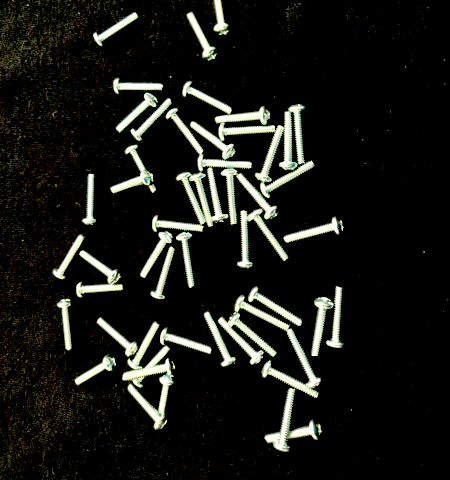longscrew: (287, 328, 328, 390), (248, 285, 305, 328), (218, 316, 266, 367), (227, 312, 279, 359), (261, 360, 321, 400), (247, 208, 291, 262), (260, 160, 317, 200), (234, 294, 292, 333), (236, 172, 281, 221), (130, 98, 174, 143), (128, 384, 170, 431), (165, 108, 206, 155), (204, 312, 239, 367), (189, 121, 238, 160), (132, 343, 174, 388), (182, 80, 234, 115), (116, 93, 160, 134), (185, 12, 220, 63), (93, 11, 141, 48), (255, 124, 285, 183), (125, 144, 159, 196), (97, 317, 140, 358), (175, 171, 207, 226), (273, 388, 299, 455), (140, 231, 176, 279), (284, 217, 345, 245), (128, 321, 161, 370), (310, 297, 336, 358), (53, 234, 87, 280), (264, 419, 324, 445), (79, 250, 122, 285), (326, 285, 349, 350), (159, 328, 214, 355), (150, 246, 177, 300), (189, 172, 215, 228), (74, 354, 117, 386), (122, 357, 177, 382), (206, 167, 230, 224), (288, 103, 308, 167), (175, 231, 197, 289), (215, 106, 273, 127), (236, 210, 256, 270), (111, 169, 155, 196), (279, 111, 298, 172), (218, 123, 277, 142), (198, 153, 254, 173), (221, 169, 240, 226), (152, 215, 206, 234), (82, 173, 101, 226), (56, 299, 75, 351), (75, 280, 126, 299), (112, 78, 165, 95), (158, 374, 177, 420), (211, 0, 233, 37)
